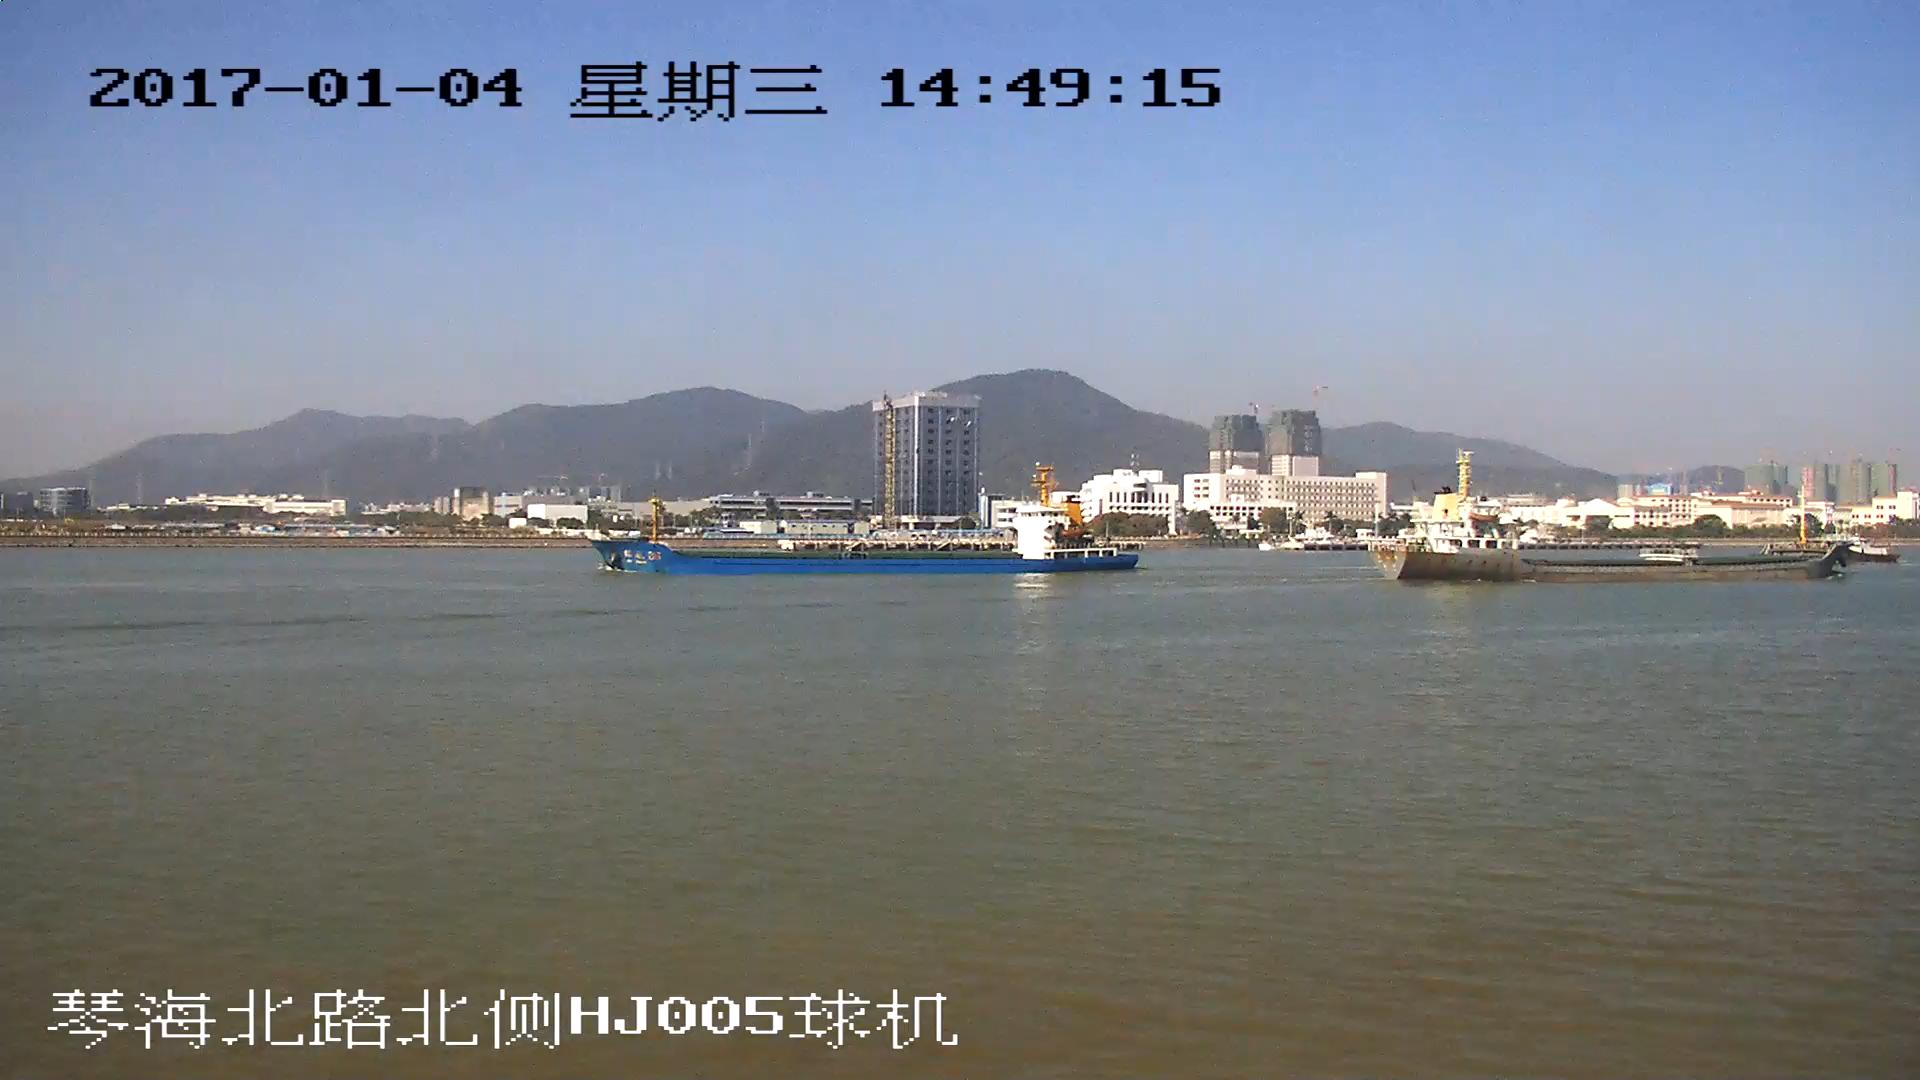general cargo ship: (588, 458, 1135, 578), (1365, 456, 1838, 585)
